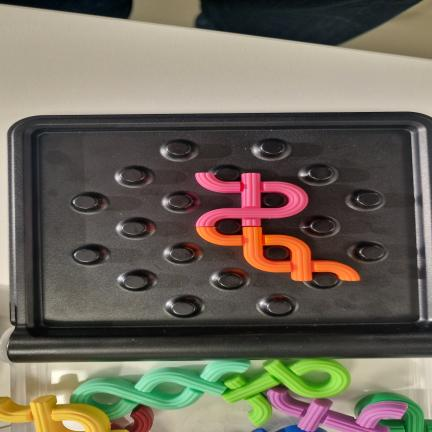G_Pink: (196, 173, 308, 227)
I_Orange: (197, 227, 360, 281)
board: (7, 112, 432, 362)
hinge: (4, 322, 432, 359)
pin: (261, 193, 288, 208), (260, 140, 285, 156), (313, 272, 338, 288), (309, 219, 335, 234), (358, 245, 384, 260), (356, 192, 381, 207), (120, 168, 144, 183), (73, 195, 97, 210), (168, 194, 192, 209), (74, 248, 98, 263), (170, 247, 194, 262), (218, 273, 242, 288), (171, 301, 195, 316), (267, 300, 291, 315), (308, 166, 333, 180), (216, 220, 241, 234), (122, 275, 147, 289), (167, 142, 191, 156), (122, 222, 146, 236), (265, 246, 289, 260), (215, 168, 239, 181)
